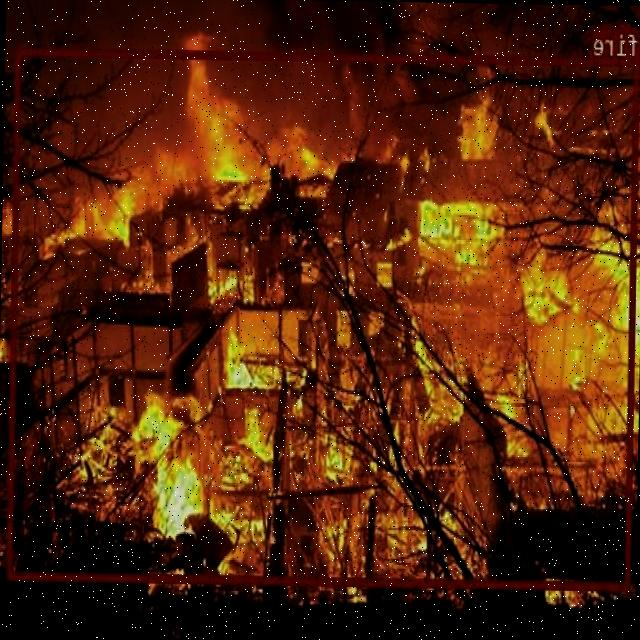fire: (7, 46, 640, 590)
